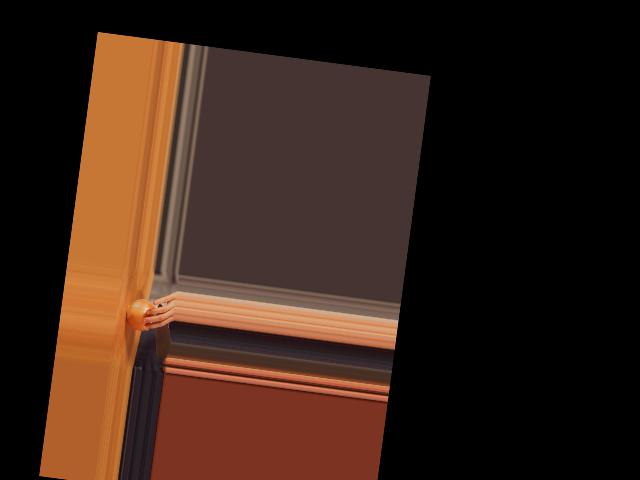onion: (123, 298, 158, 332)
